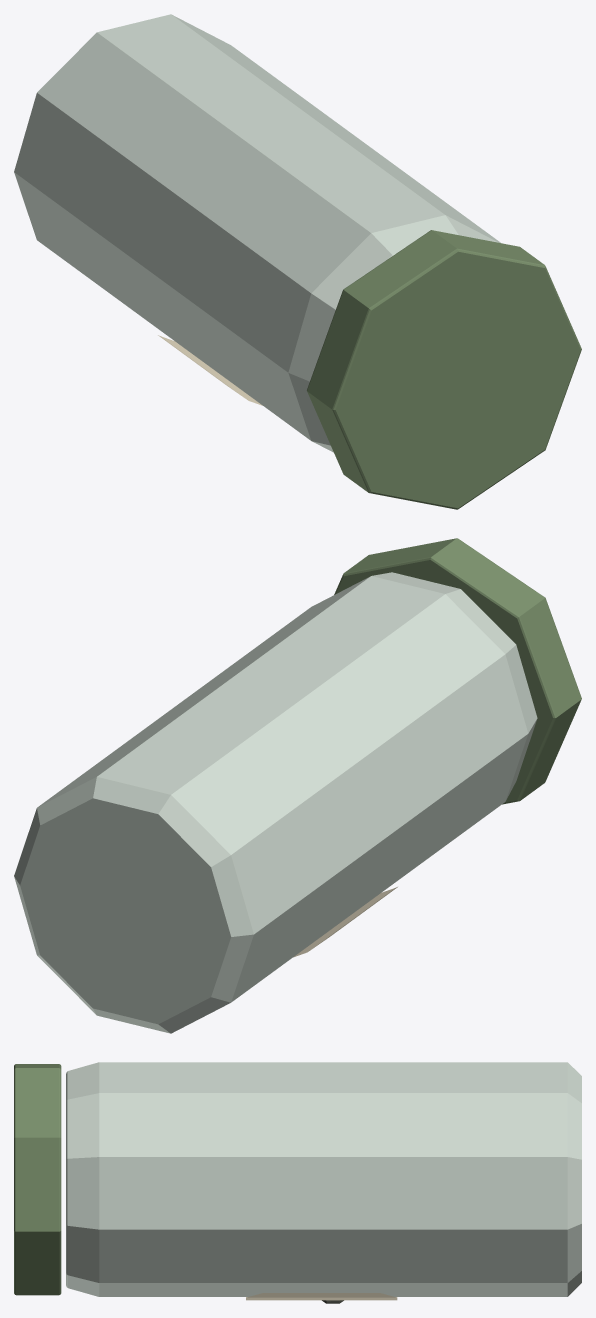
File: black_pepper.glb
3 renders of one model, top to bottom at view 1: azimuth 30°, elevation 25°; view 2: azimuth 150°, elevation 25°; view 3: azimuth 270°, elevation 25°, orthographic. The views are drawn at different scales.
Visible parts, largest first — view 1: black_pepper; view 2: black_pepper; view 3: black_pepper.
Boxes of the visible parts, x1,y1,x2,y2 form: black_pepper: (14, 14, 581, 509); black_pepper: (14, 538, 581, 1033); black_pepper: (14, 1062, 581, 1303).
Size of the model in its own units: 0.052 by 0.0528 by 0.12.
